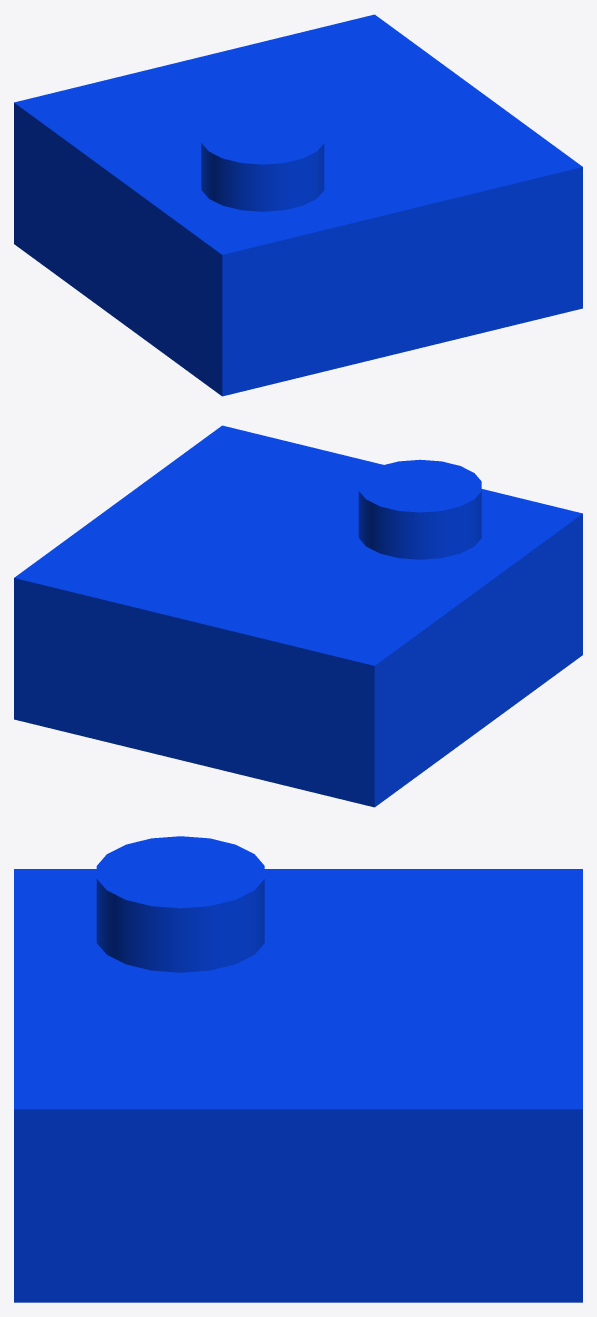
The model's file is jimu.fbx.
The picture shows the model from 3 angles, top to bottom: view 1: azimuth 30°, elevation 25°; view 2: azimuth 150°, elevation 25°; view 3: azimuth 270°, elevation 25°; orthographic projection. The views are drawn at different scales.
Visible parts, largest first — view 1: Box001, Cylinder003; view 2: Box001, Cylinder003; view 3: Box001, Cylinder003.
Boxes of the visible parts, <box> form: Box001: <box>14,14,582,396</box>; Cylinder003: <box>201,112,324,211</box>; Box001: <box>14,425,582,807</box>; Cylinder003: <box>358,459,481,559</box>; Box001: <box>14,869,582,1302</box>; Cylinder003: <box>96,836,264,972</box>.
Bounding box in the file's own units: 40 × 20 × 40.
